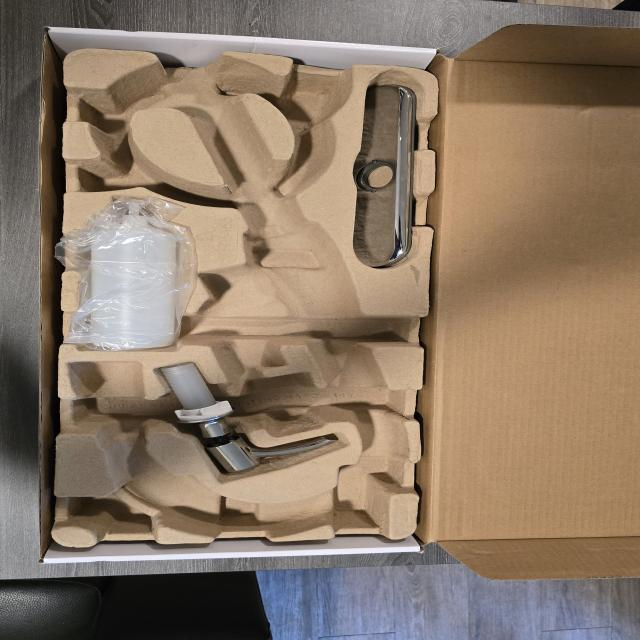1m: (69, 57, 408, 535)
2: (155, 363, 336, 473)
3: (78, 199, 179, 349)
4: (355, 86, 412, 267)
5m: (286, 83, 347, 122)
6m: (76, 78, 162, 126)
7m: (73, 136, 191, 193)
